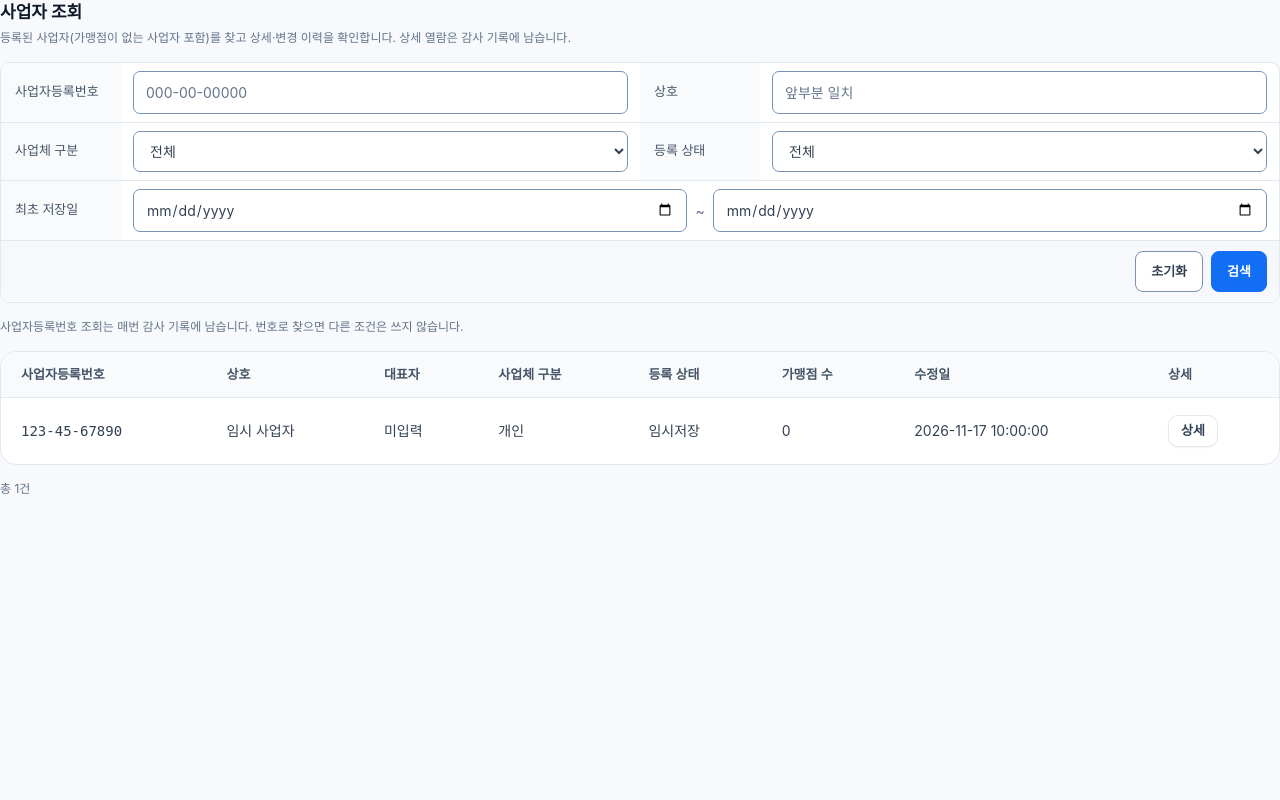
Test case: MERCHANT-IA-001 B2 — 사업자 상세 › ② 임시저장 사업자도 같은 안내와 DRAFT 경고가 남는다(진위확인 표시 없음)
Click the button with aria-label "임시 사업자 상세".
click(1193, 431)  # box [1168, 415, 1218, 447]
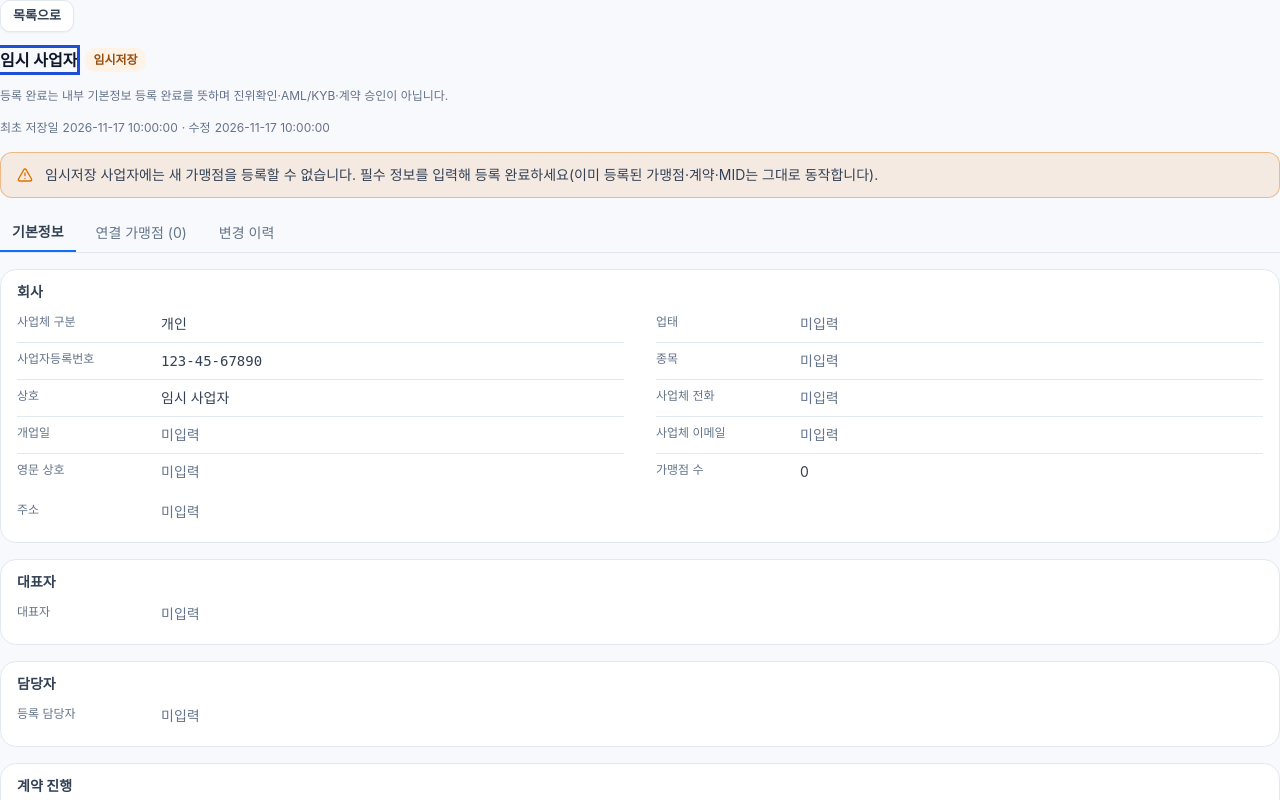
Expected: the element named "사업자 상세" shows "등록 완료는 내부 기본정보 등록 완료를 뜻하며 진위확인·AML/KYB·계약 승인이 아닙니다.", [0, 88, 448, 103]
Expected: the element named "사업자 상세" shows "임시저장 사업자에는 새 가맹점을 등록할 수 없습니다", [45, 166, 878, 183]
Expected: the text "임시저장" is shown, [85, 48, 146, 72]
